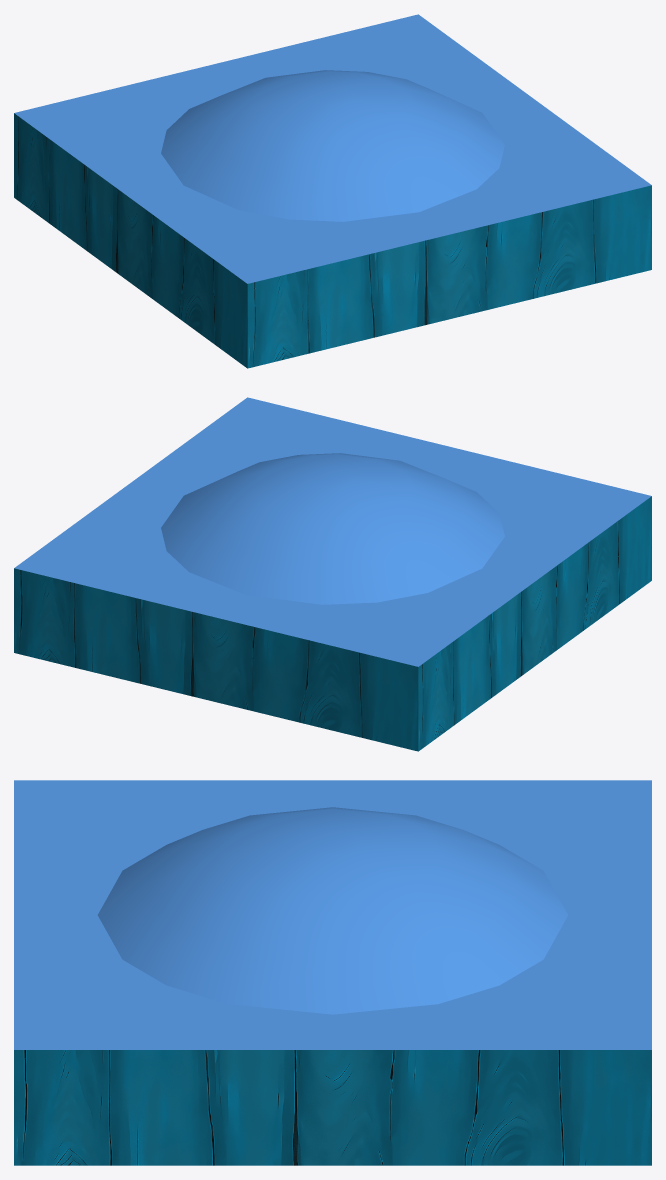
The model's file is M_Tile_Hill.fbx.
3 views of the same model, one above another, from view 1: azimuth 30°, elevation 25°; view 2: azimuth 150°, elevation 25°; view 3: azimuth 270°, elevation 25° (orthographic). The views are drawn at different scales.
Visible parts, largest first — view 1: Hill; view 2: Hill; view 3: Hill.
Part boxes in pixels (bbox=[...]): Hill: bbox=[14, 14, 651, 368]; Hill: bbox=[14, 397, 651, 751]; Hill: bbox=[14, 780, 651, 1165].
Bounding box in the file's own units: 100 × 32.4 × 100.
